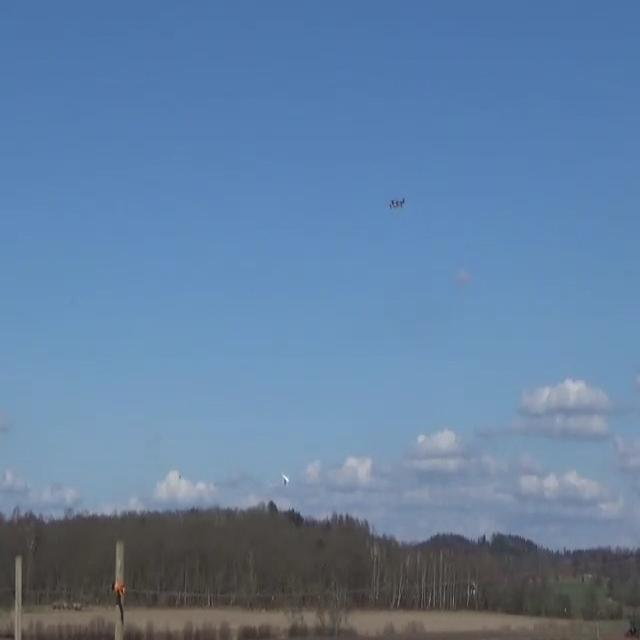drone: (388, 196, 404, 209), (281, 472, 289, 487)
